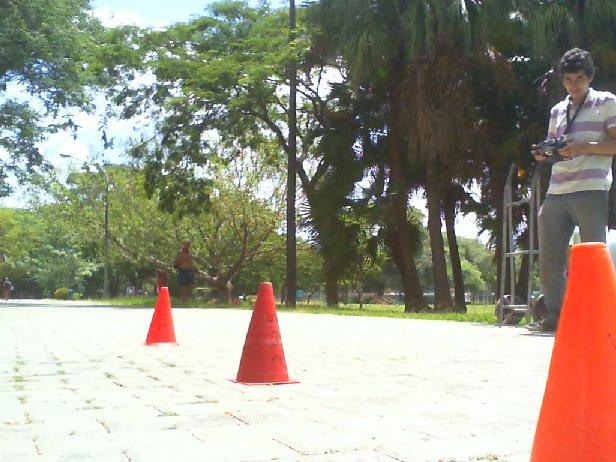0 cone: (527, 241, 616, 462), (229, 283, 298, 387), (144, 287, 178, 347)
